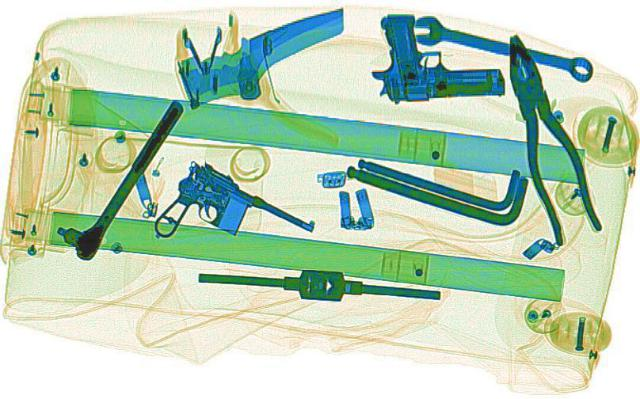Gun: (111, 156, 329, 277), (359, 8, 506, 102)
Pliers: (485, 32, 605, 243)
Wrench: (399, 11, 603, 85)
